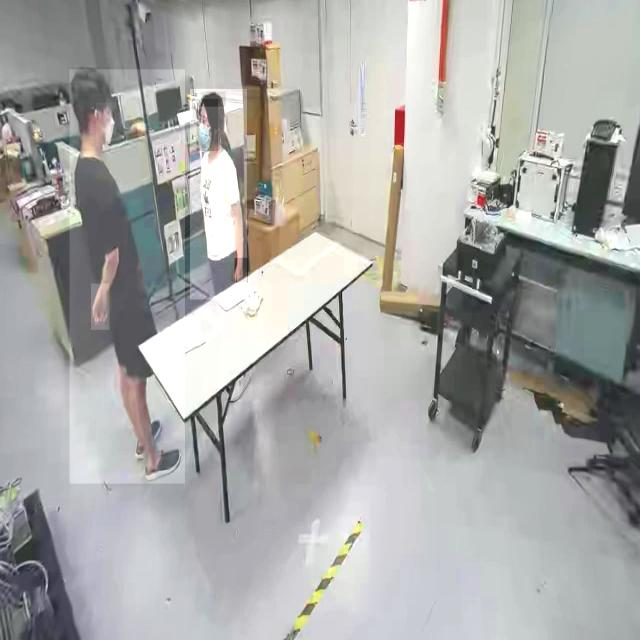face_mask: (96, 102, 122, 147), (196, 99, 218, 151)
hand_noglove: (90, 284, 110, 330), (234, 258, 248, 284)
head_nohelmet: (70, 67, 110, 94), (200, 91, 226, 108)
person: (69, 70, 185, 484), (189, 89, 247, 300)
shoes: (142, 443, 183, 487), (133, 417, 164, 460)
